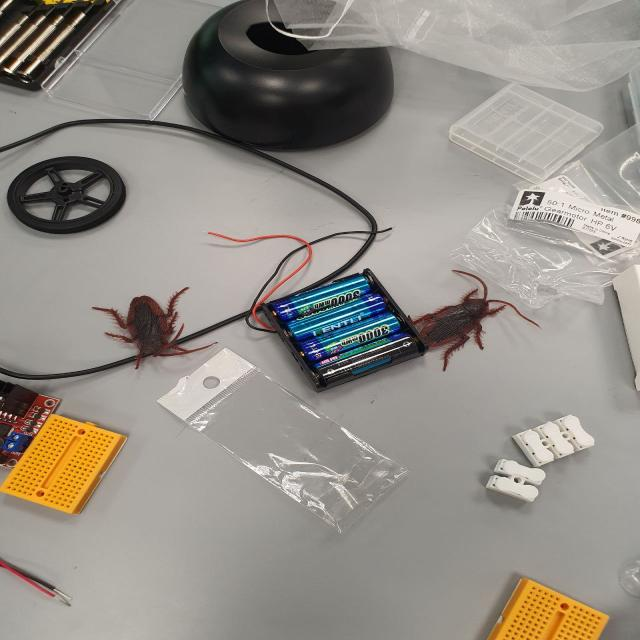Cockroach: (400, 270, 512, 368), (91, 289, 207, 378)
